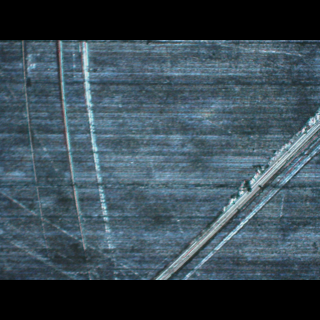d: (142, 107, 320, 280), (14, 40, 126, 269)
